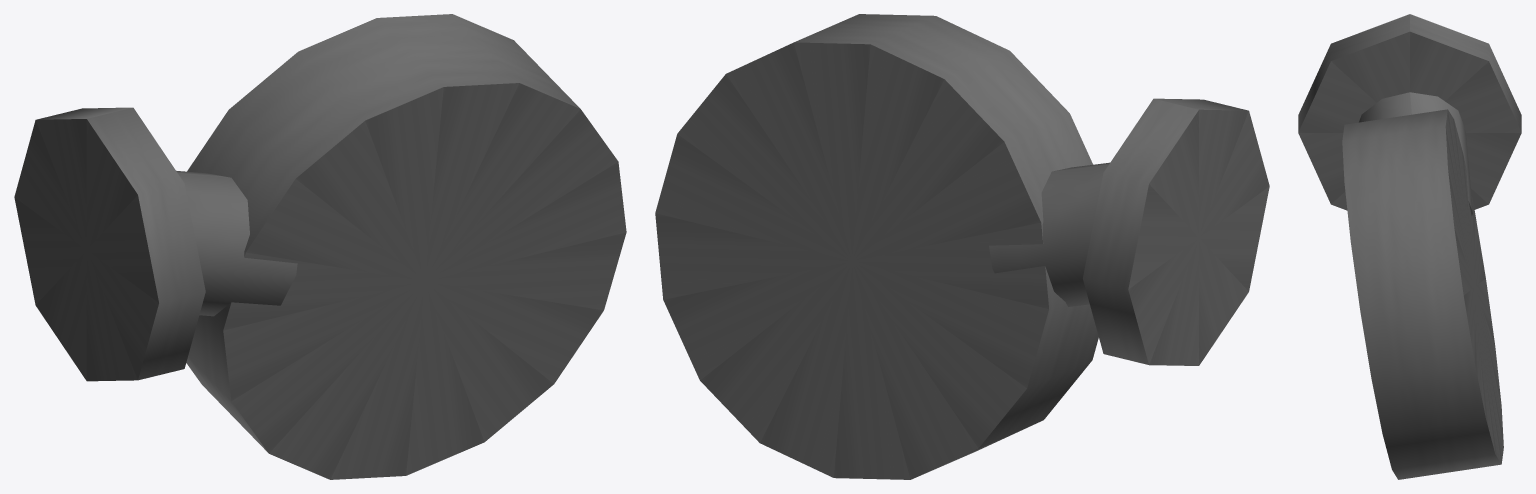
Rendered from mastarmcurve_6x2_c6_west.obj.
3 views of the same model, side by side, from view 1: azimuth 30°, elevation 25°; view 2: azimuth 150°, elevation 25°; view 3: azimuth 270°, elevation 25° (orthographic). The views are drawn at different scales.
Parts seen in each view (by area): view 1: mastarm_6x2_c6_west; view 2: mastarm_6x2_c6_west; view 3: mastarm_6x2_c6_west.
Part boxes in pixels (box(x1,y1,x2,y2)): mastarm_6x2_c6_west: box(14, 14, 626, 479); mastarm_6x2_c6_west: box(655, 14, 1269, 479); mastarm_6x2_c6_west: box(1298, 14, 1521, 479).
Bounding box in the file's own units: 0.821 × 0.6651 × 0.4.
